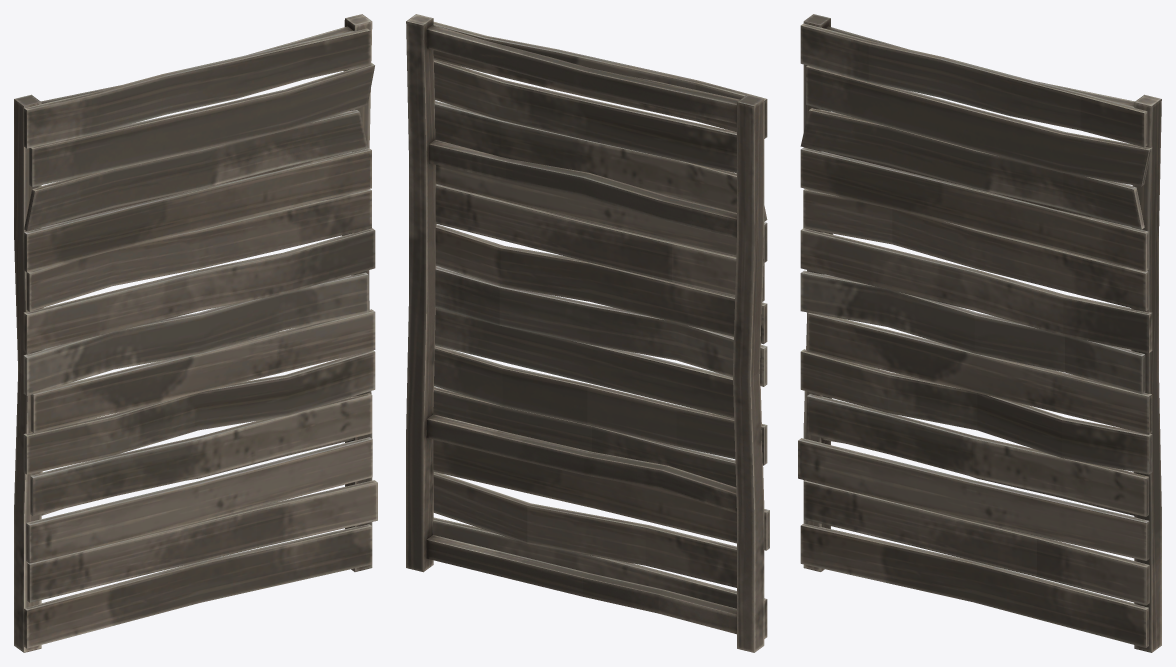
The model's file is Wood_Wall_2x.glb.
3 renders of one model, left to right at view 1: azimuth 30°, elevation 25°; view 2: azimuth 150°, elevation 25°; view 3: azimuth 330°, elevation 25°, orthographic.
Parts seen in each view (by area): view 1: Wood_Wall_2x; view 2: Wood_Wall_2x; view 3: Wood_Wall_2x.
Boxes of the visible parts, x1=… form: Wood_Wall_2x: x1=14, y1=14, x2=377, y2=652; Wood_Wall_2x: x1=406, y1=14, x2=769, y2=652; Wood_Wall_2x: x1=798, y1=14, x2=1161, y2=652.
Size of what is drawn, in the model's own units: 2 by 3 by 0.1571.
Materials: 1 (1 with a texture image).
